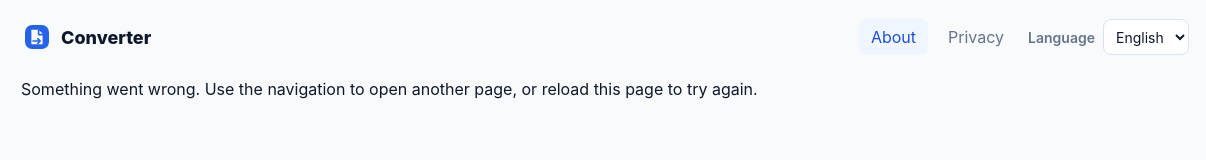
Test: ErrorBoundary › keeps navigation available and recovers after changing pages
Expected: the message shows "Something went wrong.", [21,79,758,99]
Expected: the navigation bar named "Main navigation" is shown, [21,19,1189,55]
What coordinates should you click on to do the following:
click the link "Converter"
I would click on:
 (86, 37)
Its box is [21,21,151,53].
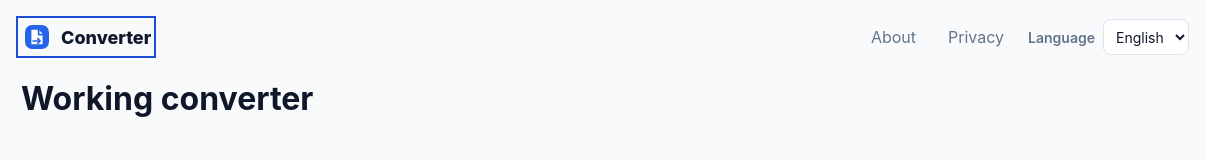
Expected: the heading "Working converter" is shown, [21,79,313,118]
Expected: the message is gone
